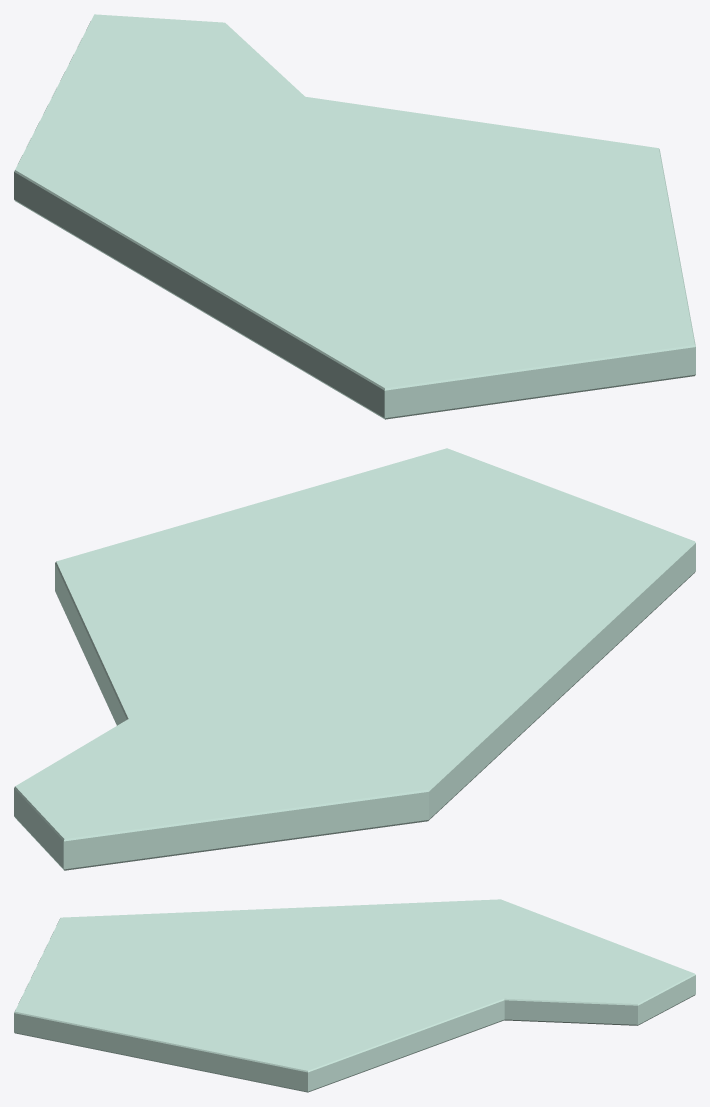
The model's file is LUX.glb.
3 views of the same model, one above another, from view 1: azimuth 30°, elevation 25°; view 2: azimuth 150°, elevation 25°; view 3: azimuth 270°, elevation 25° (orthographic). The views are drawn at different scales.
Bounding box in the file's own units: 1.15 × 0.068 × 1.93.
